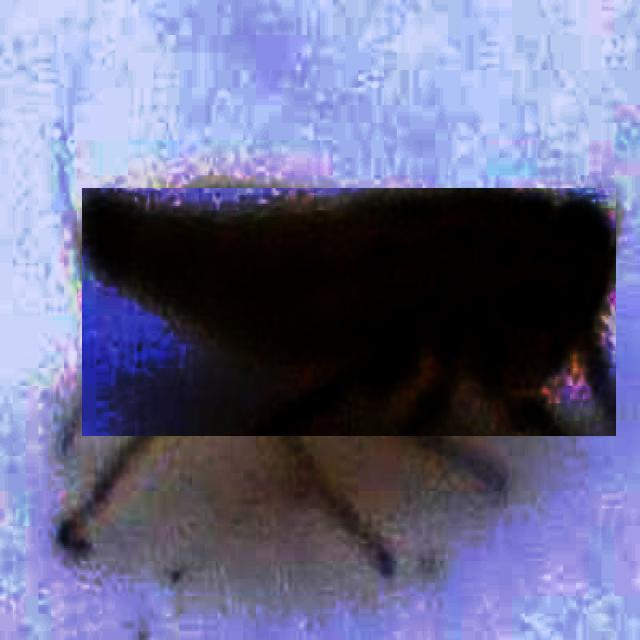green-leafhopper: (83, 188, 617, 436)
